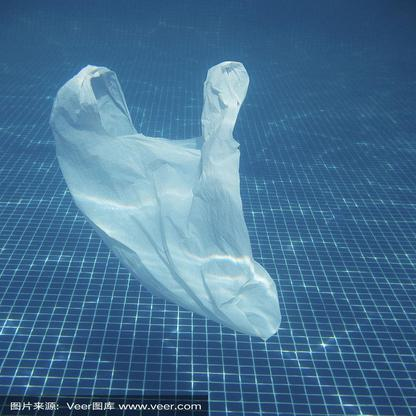plastic bag: (50, 59, 282, 341)
